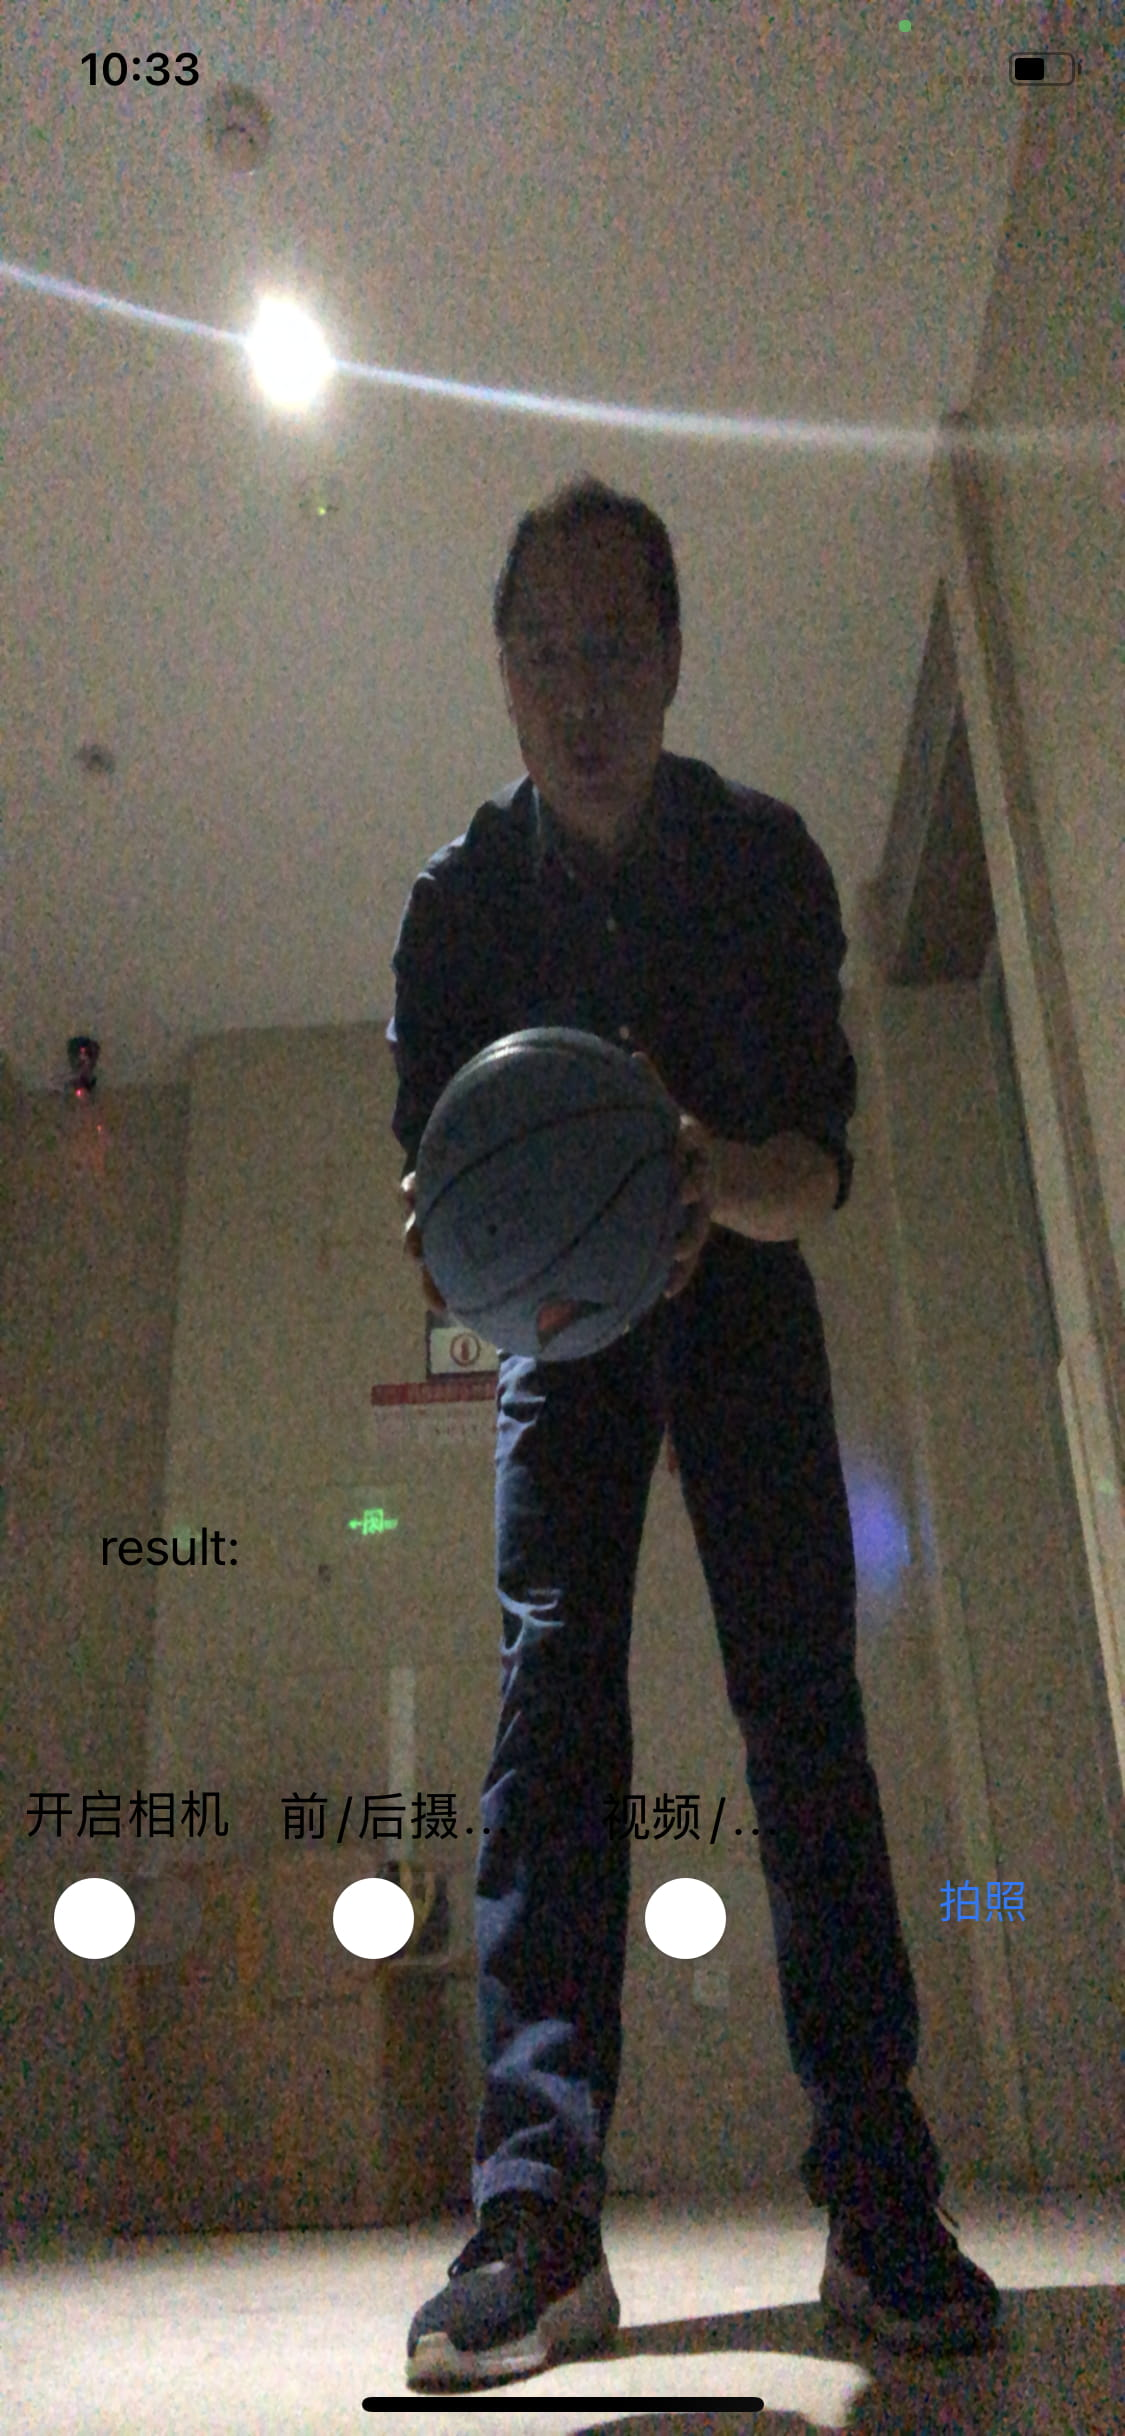ball: (409, 1028, 688, 1355)
